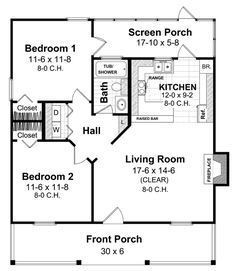door: (102, 202, 129, 226), (65, 101, 77, 143), (91, 33, 111, 58), (175, 3, 199, 22), (177, 38, 200, 57), (68, 86, 93, 102), (94, 100, 118, 116), (69, 145, 87, 166), (15, 136, 38, 151), (17, 89, 37, 104)
room: (132, 59, 215, 224), (10, 18, 95, 105), (93, 19, 217, 59), (94, 146, 133, 226), (92, 57, 131, 116), (44, 100, 90, 143), (10, 101, 45, 142)
wall: (5, 100, 16, 224), (208, 55, 219, 155), (8, 13, 69, 29), (86, 155, 100, 224), (86, 55, 97, 118), (7, 17, 17, 80), (127, 55, 134, 126), (56, 218, 103, 228), (125, 219, 171, 228), (211, 184, 220, 227), (224, 148, 233, 188), (197, 51, 221, 64), (7, 218, 35, 229), (122, 54, 154, 62), (211, 180, 235, 190), (192, 219, 222, 226), (88, 16, 97, 38), (113, 109, 133, 118)
window: (5, 78, 21, 101), (33, 214, 56, 228), (171, 215, 194, 229), (67, 12, 89, 26)
